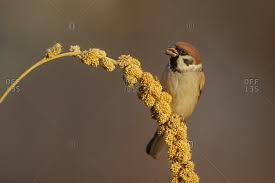hsparrow: (150, 38, 206, 163)
